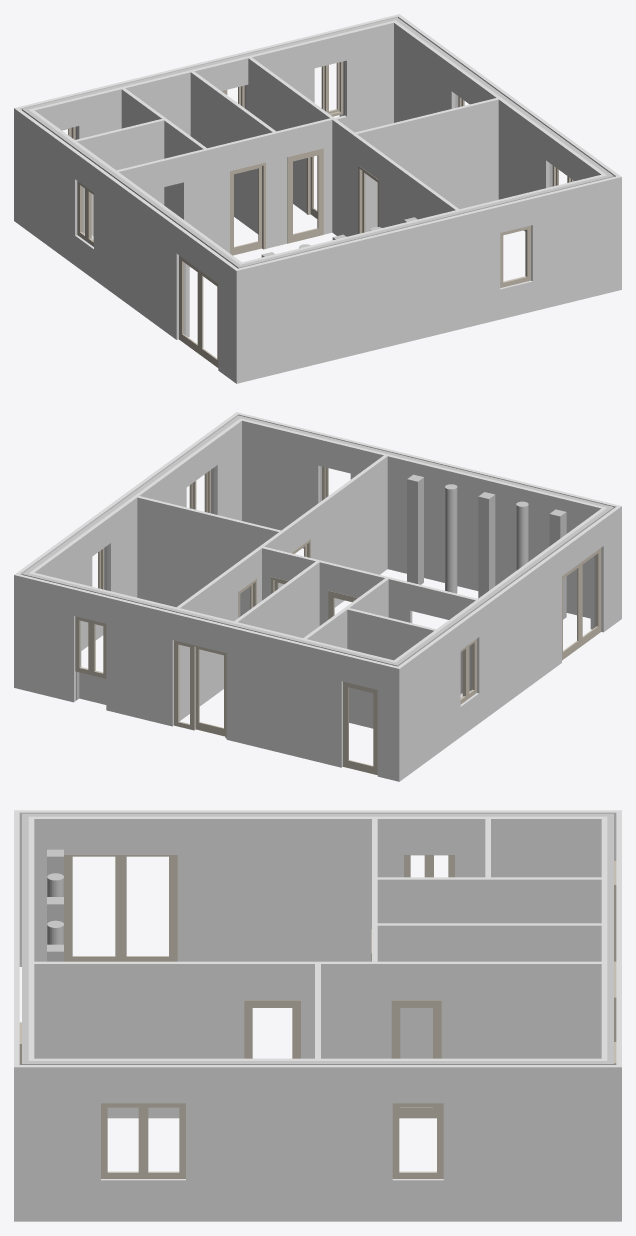
3 views of the same model, one above another, from view 1: azimuth 30°, elevation 25°; view 2: azimuth 150°, elevation 25°; view 3: azimuth 270°, elevation 25° (orthographic). The views are drawn at different scales.
Parts seen in each view (by area): view 1: 0$tG5HEOb4PeGBEvI2it5$, 0VFEGB$sXDf9ymQw$tKN0X, 0J5R8nQPj1ZBdPkRzCTwZw, 1HX$_kbR1AKxF1CmKGciQa, 3aCoLPwe14AOAhSbS4f6F3, 0Z1agmnnr7N8Ifw7iC5aMP, 09s5yu83v53RpozKToQ$0_, 0GVHv3rDXBewxnxizHODe9, 35isJ7ZbfCMPcBeaKfPbhV, 1zsKhirn1FnwVGfXbQpQHM, 0DSapoOpX0yA_hBtshJdxb, 09oFeY5xD84QjILxCB0xam (+14 smaller); view 2: 0ZqQDQ$ET1VOfA0qLgY8vL, 0Ux3A2Ka14tPKcLfxAvuad, 0VFEGB$sXDf9ymQw$tKN0X, 3aCoLPwe14AOAhSbS4f6F3, 0Z1agmnnr7N8Ifw7iC5aMP, 35isJ7ZbfCMPcBeaKfPbhV, 1HX$_kbR1AKxF1CmKGciQa, 09s5yu83v53RpozKToQ$0_, 1zsKhirn1FnwVGfXbQpQHM, 0GVHv3rDXBewxnxizHODe9, 3PA0epOwLBzBo_1TFvlUjz, 0DSapoOpX0yA_hBtshJdxb (+17 smaller); view 3: 1ZgUsyGw16qRqHnf_kX1uP, 0hzFNMwgPCBO181KPtYFq1, 35isJ7ZbfCMPcBeaKfPbhV, 09s5yu83v53RpozKToQ$0_, 0DSapoOpX0yA_hBtshJdxb, 0GVHv3rDXBewxnxizHODe9, 09oFeY5xD84QjILxCB0xam, 0VFEGB$sXDf9ymQw$tKN0X, 2KPO3pSLL4ShIzndhIcsT7, 0$tG5HEOb4PeGBEvI2it5$, 16JWmMgPD6XfhPYyUKBmmk, 0BQ$aeD_nC_fGnlVpT243h (+12 smaller).
Part boxes in pixels (bbox=[...]): 0$tG5HEOb4PeGBEvI2it5$: bbox=[234, 175, 621, 383]; 0VFEGB$sXDf9ymQw$tKN0X: bbox=[16, 109, 237, 381]; 0J5R8nQPj1ZBdPkRzCTwZw: bbox=[33, 20, 397, 139]; 1HX$_kbR1AKxF1CmKGciQa: bbox=[116, 118, 332, 267]; 3aCoLPwe14AOAhSbS4f6F3: bbox=[394, 22, 606, 231]; 0Z1agmnnr7N8Ifw7iC5aMP: bbox=[355, 98, 498, 232]; 09s5yu83v53RpozKToQ$0_: bbox=[248, 57, 354, 236]; 0GVHv3rDXBewxnxizHODe9: bbox=[190, 71, 275, 233]; 35isJ7ZbfCMPcBeaKfPbhV: bbox=[351, 132, 458, 235]; 1zsKhirn1FnwVGfXbQpQHM: bbox=[75, 119, 164, 236]; 0DSapoOpX0yA_hBtshJdxb: bbox=[121, 88, 206, 217]; 09oFeY5xD84QjILxCB0xam: bbox=[179, 255, 218, 367]; 0ZqQDQ$ET1VOfA0qLgY8vL: bbox=[17, 574, 401, 781]; 0Ux3A2Ka14tPKcLfxAvuad: bbox=[242, 419, 602, 618]; 0VFEGB$sXDf9ymQw$tKN0X: bbox=[398, 507, 619, 779]; 3aCoLPwe14AOAhSbS4f6F3: bbox=[31, 418, 243, 650]; 0Z1agmnnr7N8Ifw7iC5aMP: bbox=[137, 496, 280, 616]; 35isJ7ZbfCMPcBeaKfPbhV: bbox=[279, 455, 387, 607]; 1HX$_kbR1AKxF1CmKGciQa: bbox=[262, 546, 477, 693]; 09s5yu83v53RpozKToQ$0_: bbox=[177, 532, 282, 720]; 1zsKhirn1FnwVGfXbQpQHM: bbox=[347, 608, 436, 728]; 0GVHv3rDXBewxnxizHODe9: bbox=[234, 561, 319, 637]; 3PA0epOwLBzBo_1TFvlUjz: bbox=[174, 640, 226, 738]; 0DSapoOpX0yA_hBtshJdxb: bbox=[303, 578, 388, 648]; 1ZgUsyGw16qRqHnf_kX1uP: bbox=[19, 1065, 621, 1221]; 0hzFNMwgPCBO181KPtYFq1: bbox=[28, 816, 607, 961]; 35isJ7ZbfCMPcBeaKfPbhV: bbox=[34, 961, 320, 1118]; 09s5yu83v53RpozKToQ$0_: bbox=[321, 961, 601, 1058]; 0DSapoOpX0yA_hBtshJdxb: bbox=[377, 877, 601, 923]; 0GVHv3rDXBewxnxizHODe9: bbox=[377, 923, 601, 1058]; 09oFeY5xD84QjILxCB0xam: bbox=[64, 855, 177, 961]; 0VFEGB$sXDf9ymQw$tKN0X: bbox=[19, 810, 616, 966]; 2KPO3pSLL4ShIzndhIcsT7: bbox=[101, 1103, 185, 1178]; 0$tG5HEOb4PeGBEvI2it5$: bbox=[14, 810, 19, 1221]; 16JWmMgPD6XfhPYyUKBmmk: bbox=[28, 813, 613, 816]; 0BQ$aeD_nC_fGnlVpT243h: bbox=[28, 1061, 607, 1064].
Size of what is drawn, in the model's own units: 10.72 by 3 by 10.72.
